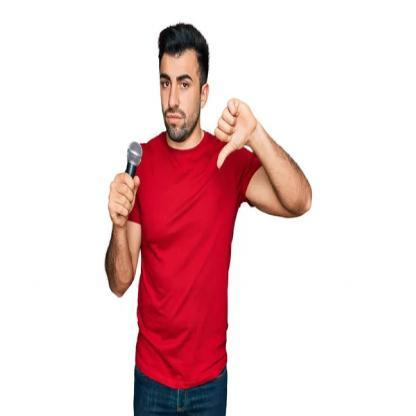thumb_down: (212, 95, 256, 170)
